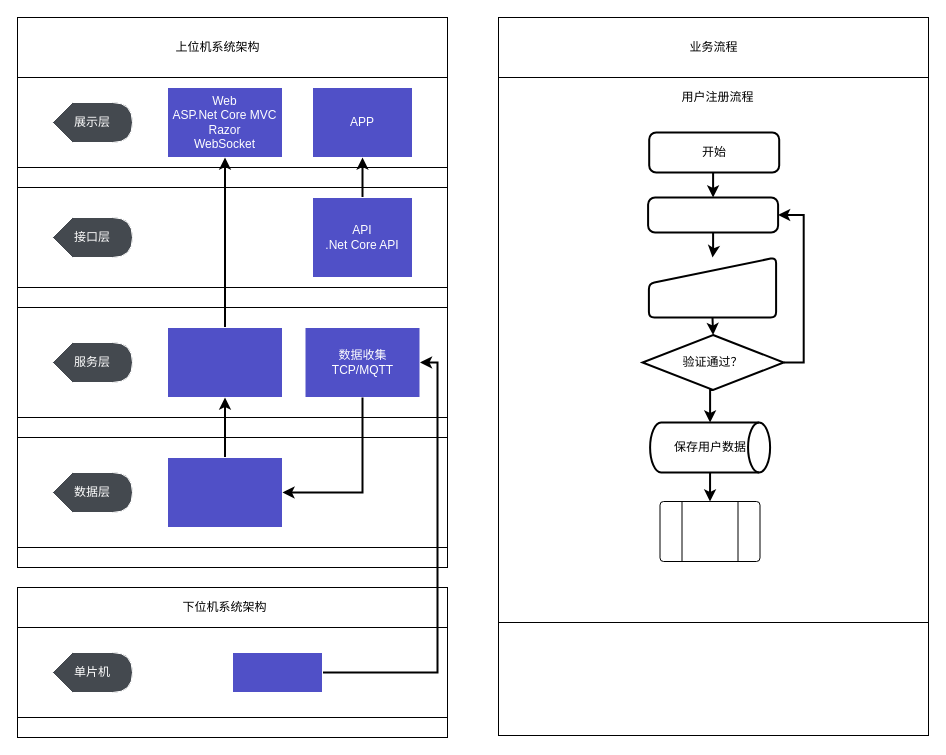
The diagram is 946 pixels wide and 755 high, and some of its shapes have lost their labels. The shapes that lost their labels are listed below. From the top down, each one's box as (x1, y1, x2, y2) in pixels, then its label:
(647, 196, 779, 233): 注册页面
(647, 256, 777, 318): 用户名、注册邮箱、密码、邮箱验证码
(166, 326, 282, 398): 控制器 ASP.Net Core MVC
(166, 456, 282, 528): 数据库 SQL Server
(659, 500, 760, 562): 登录流程
(232, 652, 322, 692): 数据发送
